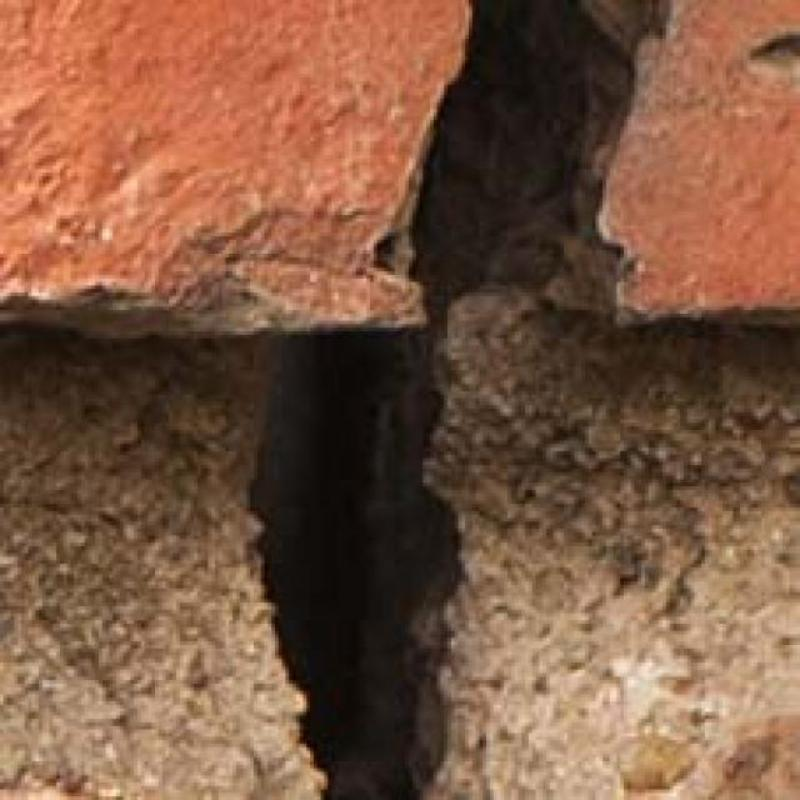pothole: (252, 0, 631, 799)
